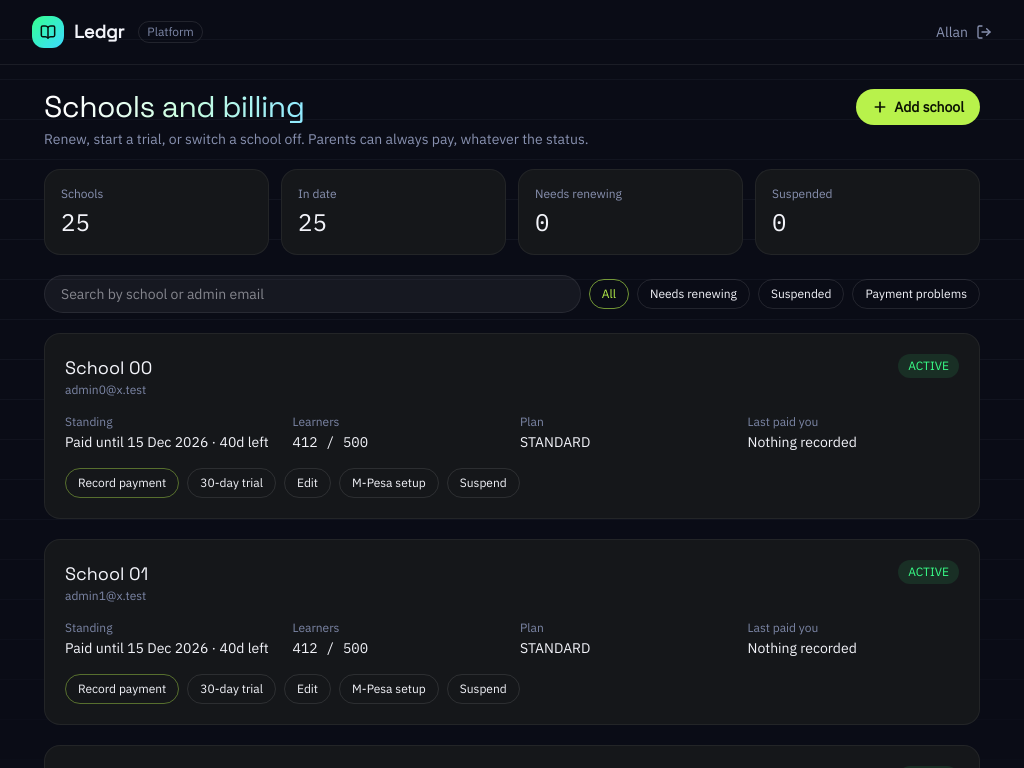
Test: finding a school among many › searches by name or admin email
The image size is (1024, 768).
Expected: the heading "School 00" is shown, [65,354,152,382]
In the search field named "Search schools": x=312, y=294 [44,275,581,313], type "school 07"
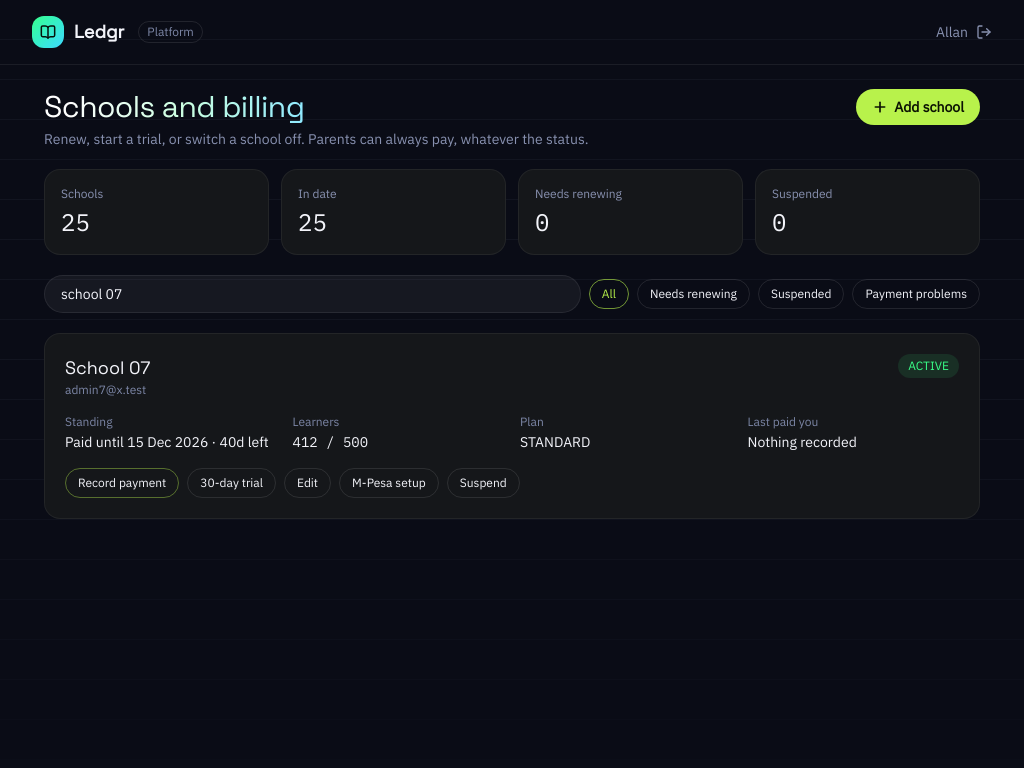
Expected: the heading "School 07" is shown, [65,354,150,382]
Replace the text in the search field named "Search schools" with "admin12@": x=312, y=294 [44,275,581,313]
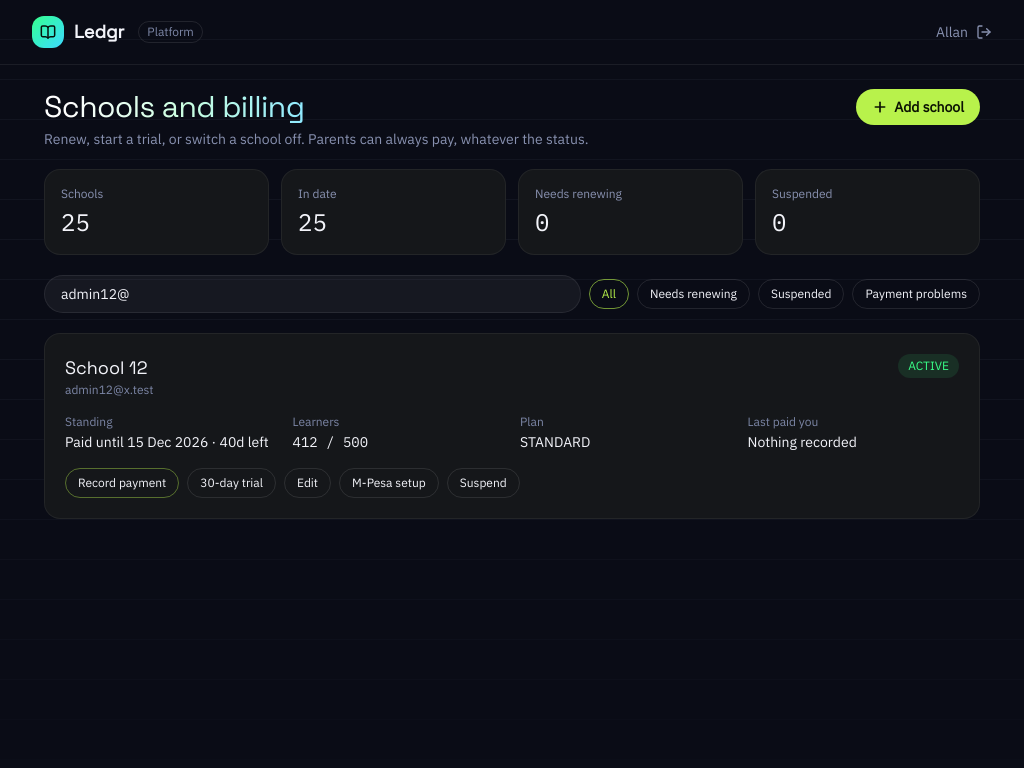
Now the heading "School 12" is shown, box [65,354,154,382]
Replace the text in the search field named "Search schools" with "nothing like this": x=312, y=294 [44,275,581,313]
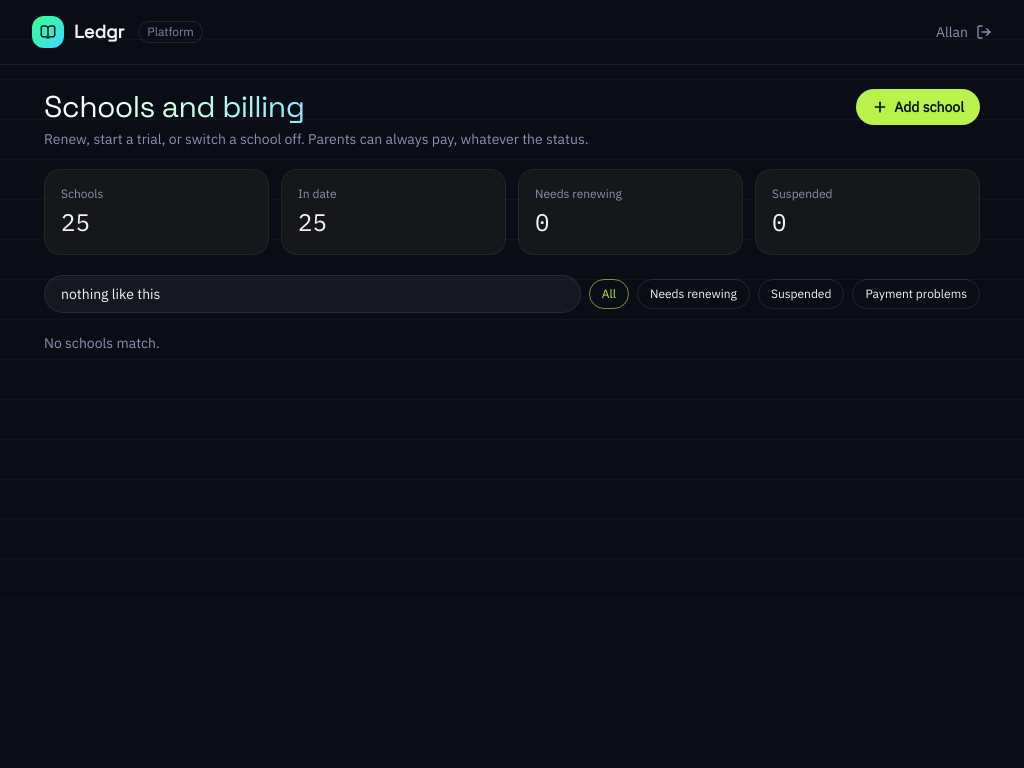
Now the text "No schools match." is shown, box [44,334,160,352]
